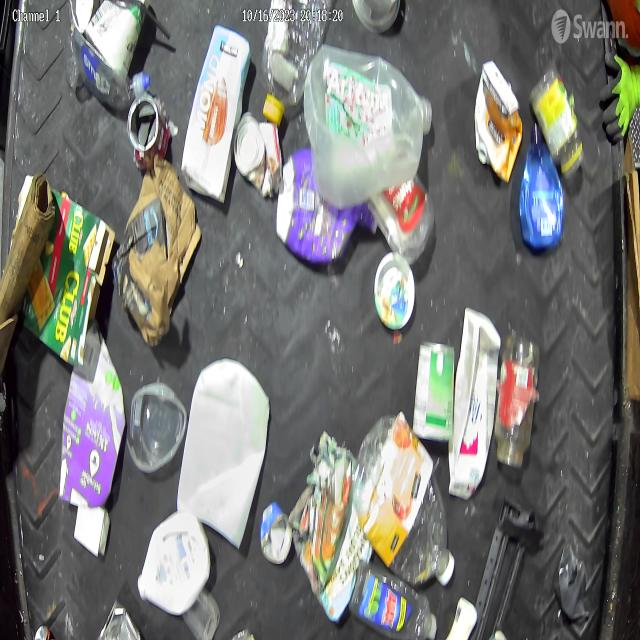can: (226, 104, 276, 217), (255, 485, 296, 577)
non_white_jug: (307, 45, 433, 213)
plastic_bottle: (349, 404, 453, 586), (259, 0, 329, 124), (354, 564, 435, 640)
